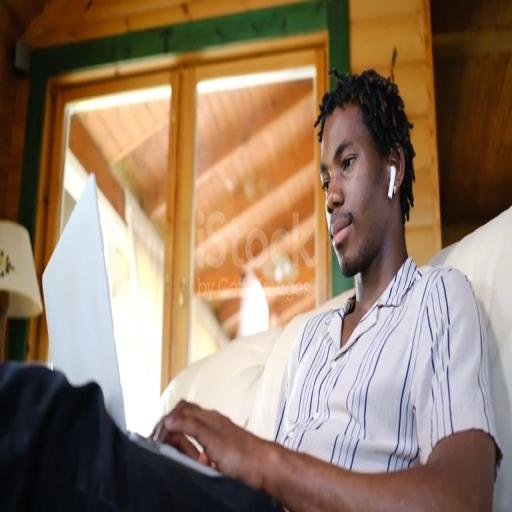earphone: (384, 164, 398, 213)
